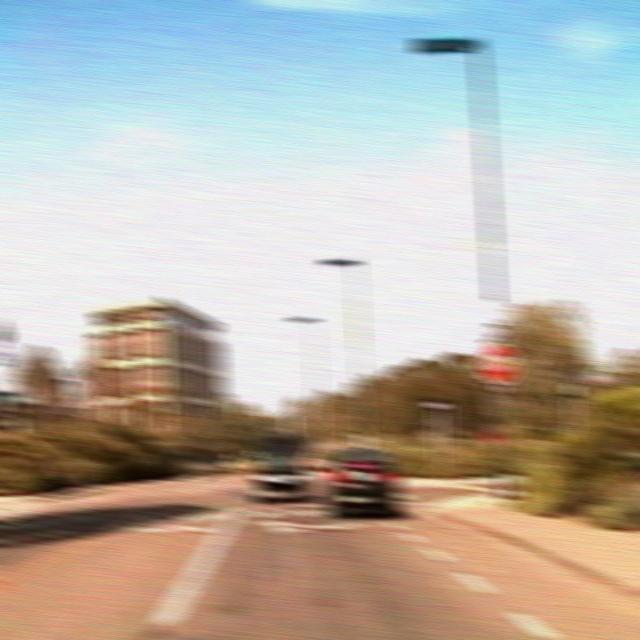stop_sign: (478, 341, 518, 384)
